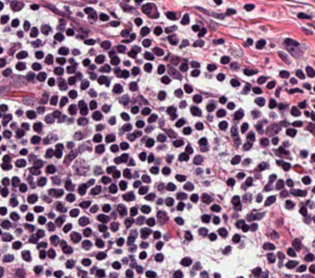nucleus: (168, 66, 181, 79), (64, 151, 76, 163), (142, 3, 153, 15), (190, 106, 200, 115), (234, 109, 243, 119), (284, 39, 298, 45), (41, 25, 50, 34), (168, 35, 177, 44), (256, 39, 265, 48), (92, 111, 101, 120), (33, 122, 42, 131), (95, 144, 104, 153), (193, 155, 202, 164), (231, 155, 240, 164), (153, 47, 163, 55), (306, 67, 314, 77), (98, 76, 108, 84), (58, 79, 66, 89), (68, 104, 76, 114), (286, 128, 296, 136), (256, 163, 267, 170), (29, 167, 40, 174), (154, 26, 162, 35), (95, 55, 104, 63), (244, 69, 256, 75), (295, 70, 304, 78), (37, 72, 45, 81), (80, 80, 88, 89), (113, 84, 122, 92), (120, 95, 128, 104), (105, 134, 114, 142), (31, 135, 40, 143), (179, 152, 188, 160), (281, 162, 290, 170), (46, 165, 55, 173), (166, 12, 176, 19), (181, 14, 188, 24), (193, 39, 203, 46), (58, 47, 68, 54), (100, 65, 110, 72), (60, 96, 67, 106), (77, 117, 87, 124), (278, 147, 288, 154), (231, 126, 237, 137), (140, 27, 148, 35), (198, 28, 206, 36), (111, 56, 119, 64), (129, 82, 137, 90), (184, 84, 192, 92), (68, 90, 76, 98), (291, 107, 299, 115), (121, 112, 129, 120), (148, 114, 156, 122), (45, 115, 53, 123), (219, 121, 227, 129), (45, 149, 53, 157), (30, 27, 37, 36), (54, 33, 63, 40), (101, 41, 110, 48), (144, 52, 153, 59), (220, 56, 229, 63), (56, 57, 65, 64), (54, 67, 63, 74), (230, 79, 239, 86), (255, 98, 264, 105), (269, 99, 276, 108), (166, 130, 175, 137), (247, 132, 254, 141), (123, 169, 130, 178), (269, 174, 276, 183), (298, 13, 310, 18), (289, 88, 301, 93), (89, 11, 96, 19), (100, 13, 108, 20), (32, 39, 40, 46), (142, 39, 150, 46), (180, 40, 188, 47), (116, 45, 124, 52), (128, 50, 136, 57), (45, 55, 52, 63), (32, 63, 40, 70), (144, 63, 151, 71), (191, 69, 199, 76), (280, 70, 288, 77), (161, 76, 169, 83), (257, 76, 265, 83), (243, 84, 250, 92), (175, 89, 182, 97), (158, 91, 165, 99), (193, 95, 201, 102), (50, 96, 57, 104), (207, 103, 214, 111), (80, 107, 87, 115), (167, 107, 175, 114), (217, 109, 225, 116), (176, 119, 184, 126), (74, 132, 82, 139), (93, 134, 101, 141), (157, 134, 165, 141), (146, 138, 153, 146), (199, 138, 206, 146), (260, 138, 268, 145), (120, 142, 128, 149), (243, 142, 251, 149), (185, 145, 192, 153), (54, 149, 61, 157), (139, 152, 146, 160), (120, 154, 127, 162), (34, 160, 42, 167), (162, 167, 170, 174), (142, 175, 150, 182), (84, 39, 95, 44), (244, 4, 253, 10), (84, 7, 93, 13), (226, 8, 235, 14), (207, 64, 216, 70), (41, 93, 47, 102), (90, 100, 96, 109), (241, 123, 247, 132), (122, 124, 131, 130), (173, 140, 182, 146), (292, 121, 302, 126), (66, 28, 73, 35), (121, 29, 128, 36), (35, 51, 42, 58), (180, 63, 187, 70), (121, 70, 128, 77), (217, 73, 224, 80), (68, 77, 75, 84), (267, 81, 274, 88), (219, 96, 226, 103), (78, 101, 85, 108), (102, 105, 109, 112), (131, 106, 138, 113), (136, 120, 143, 127), (195, 122, 202, 129), (183, 127, 190, 134), (110, 145, 117, 152), (112, 170, 119, 177), (132, 46, 140, 52), (191, 61, 199, 67), (158, 65, 164, 73), (66, 66, 74, 72), (253, 87, 261, 93), (142, 108, 150, 114), (52, 111, 60, 117), (133, 130, 141, 136), (127, 134, 135, 140), (106, 166, 114, 172), (150, 167, 158, 173), (110, 21, 119, 26), (135, 18, 141, 25), (171, 57, 178, 63), (69, 58, 75, 65), (83, 59, 90, 65), (132, 67, 138, 74), (48, 78, 54, 85), (89, 90, 96, 96), (179, 101, 186, 107), (227, 102, 234, 108), (37, 107, 44, 113), (109, 117, 115, 124), (96, 124, 103, 130), (272, 137, 278, 144), (294, 165, 301, 171), (237, 172, 244, 178), (115, 68, 120, 76), (148, 154, 153, 162), (214, 39, 223, 43), (67, 142, 73, 148), (301, 150, 307, 156), (166, 156, 172, 162), (114, 157, 120, 163), (31, 4, 38, 9), (130, 33, 135, 40), (72, 49, 79, 54), (145, 126, 152, 131), (56, 144, 63, 149), (192, 25, 198, 30), (165, 28, 171, 33), (247, 38, 252, 44), (109, 51, 114, 57), (90, 72, 95, 78), (290, 78, 296, 83), (304, 84, 310, 89), (299, 102, 305, 107), (171, 114, 176, 119), (124, 61, 130, 65), (253, 111, 259, 115), (311, 112, 314, 120), (311, 153, 314, 161), (244, 159, 250, 163), (123, 39, 130, 42), (76, 73, 81, 77), (278, 104, 283, 108), (44, 138, 48, 143), (129, 159, 133, 164), (215, 1, 221, 4), (90, 65, 94, 68), (284, 142, 288, 145)
